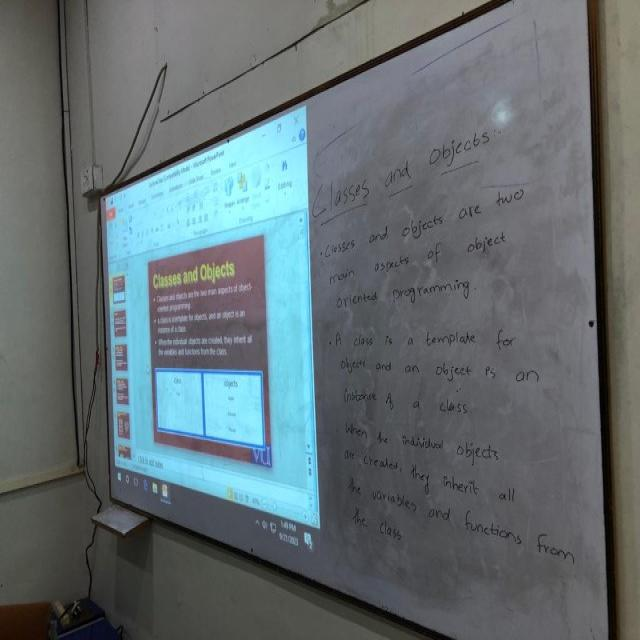Slide: (105, 103, 321, 543)
White-board: (98, 0, 612, 640)
